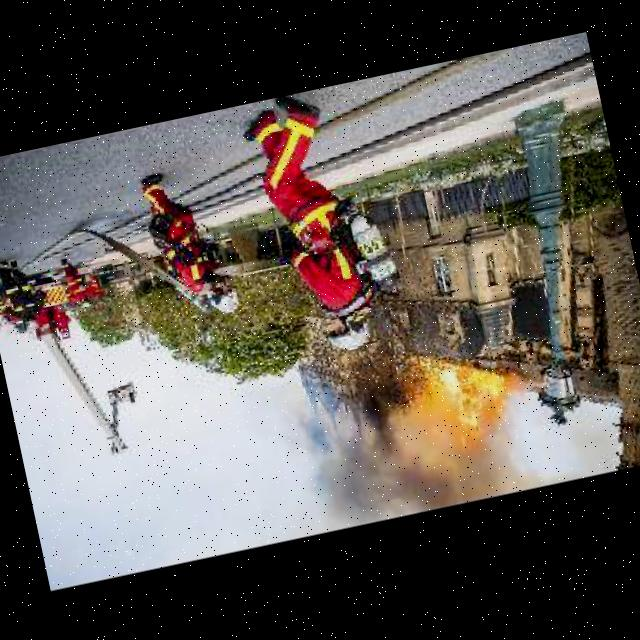fire: (418, 350, 526, 458)
